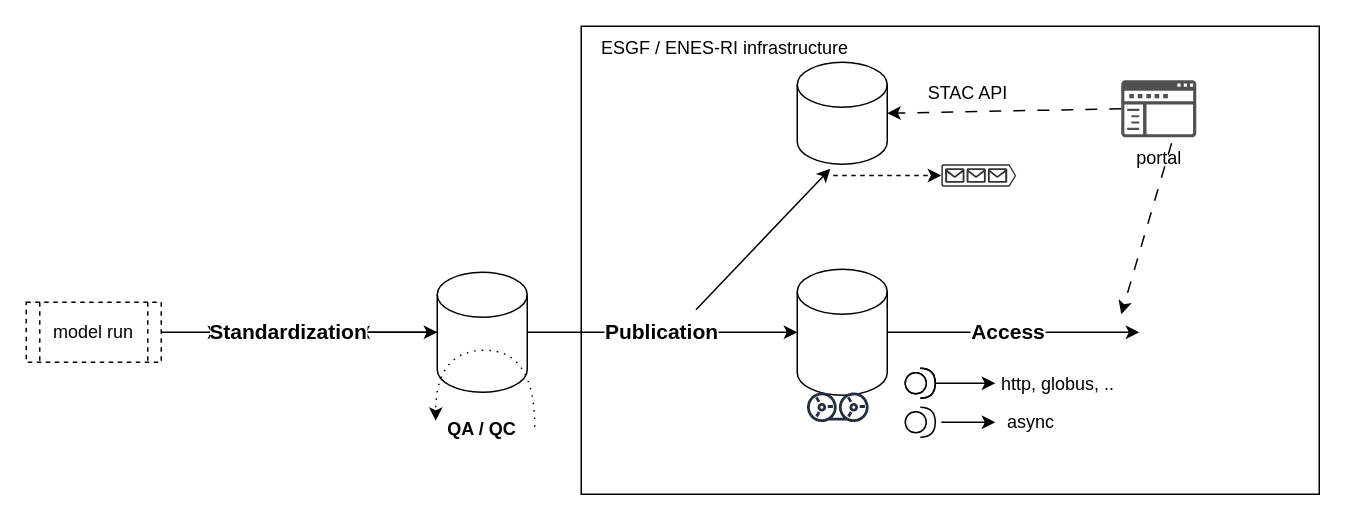
Some shapes in this 1346 by 521 pixel diagram are drawn without their labels. The centre of each missing label's shape, as x and y in pixels:
ESGF Data Node: pixel 841 331
Search Index: pixel 841 112
